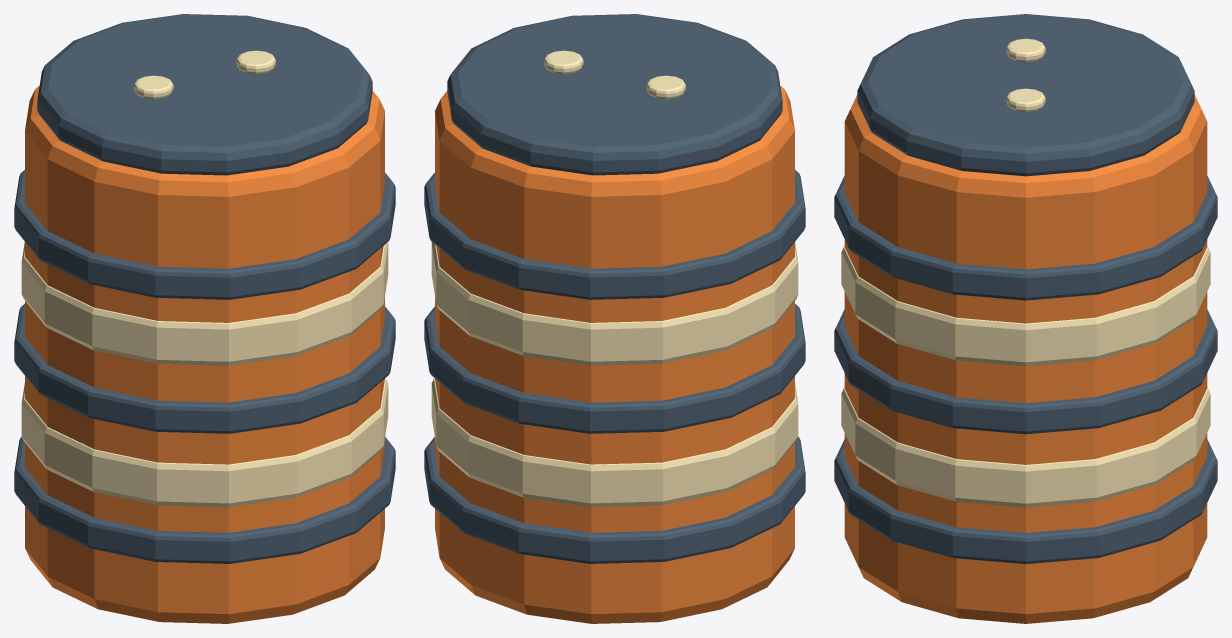
Rendered from obstacle_barrel.glb.
3 renders of one model, left to right at view 1: azimuth 30°, elevation 25°; view 2: azimuth 150°, elevation 25°; view 3: azimuth 270°, elevation 25°, orthographic.
Visible parts, largest first — view 1: Barrel body, Top cap, Reflective safety band, Reflective safety band.001, Raised steel hoop.002, Raised steel hoop.001, Raised steel hoop, Top bung, Top bung.001; view 2: Barrel body, Top cap, Reflective safety band, Reflective safety band.001, Raised steel hoop.002, Raised steel hoop.001, Raised steel hoop, Top bung, Top bung.001; view 3: Barrel body, Top cap, Reflective safety band, Reflective safety band.001, Raised steel hoop.002, Raised steel hoop, Raised steel hoop.001, Top bung.001, Top bung.
Part boxes in pixels (bbox=[...]): Barrel body: bbox=[25, 86, 384, 623]; Top cap: bbox=[37, 14, 372, 175]; Reflective safety band: bbox=[21, 378, 388, 507]; Reflective safety band.001: bbox=[21, 242, 388, 365]; Raised steel hoop.002: bbox=[14, 170, 395, 299]; Raised steel hoop.001: bbox=[14, 304, 395, 433]; Raised steel hoop: bbox=[14, 436, 395, 563]; Top bung: bbox=[134, 75, 173, 99]; Top bung.001: bbox=[236, 50, 275, 74]; Barrel body: bbox=[435, 86, 794, 623]; Top cap: bbox=[447, 14, 782, 175]; Reflective safety band: bbox=[431, 378, 798, 507]; Reflective safety band.001: bbox=[431, 242, 798, 365]; Raised steel hoop.002: bbox=[424, 170, 805, 299]; Raised steel hoop.001: bbox=[424, 304, 805, 433]; Raised steel hoop: bbox=[424, 436, 805, 563]; Top bung: bbox=[646, 75, 685, 99]; Top bung.001: bbox=[544, 50, 583, 74]; Barrel body: bbox=[844, 95, 1207, 623]; Top cap: bbox=[857, 14, 1194, 176]; Reflective safety band: bbox=[841, 387, 1210, 507]; Reflective safety band.001: bbox=[841, 246, 1210, 366]; Raised steel hoop.002: bbox=[834, 176, 1217, 300]; Raised steel hoop: bbox=[834, 439, 1217, 563]; Raised steel hoop.001: bbox=[834, 309, 1217, 434]; Top bung.001: bbox=[1006, 88, 1045, 111]; Top bung: bbox=[1006, 38, 1045, 62].
Size of the model in its own units: 0.91 by 1.27 by 0.91.
